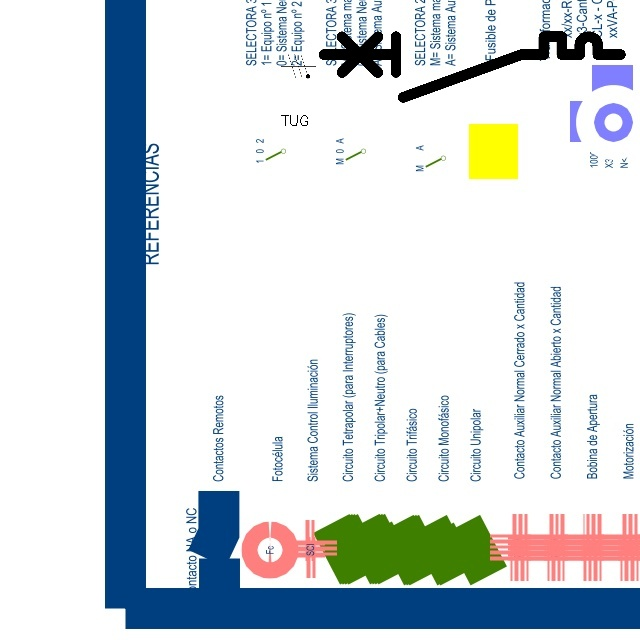interruptor_termomagnetico: (316, 29, 627, 105)
